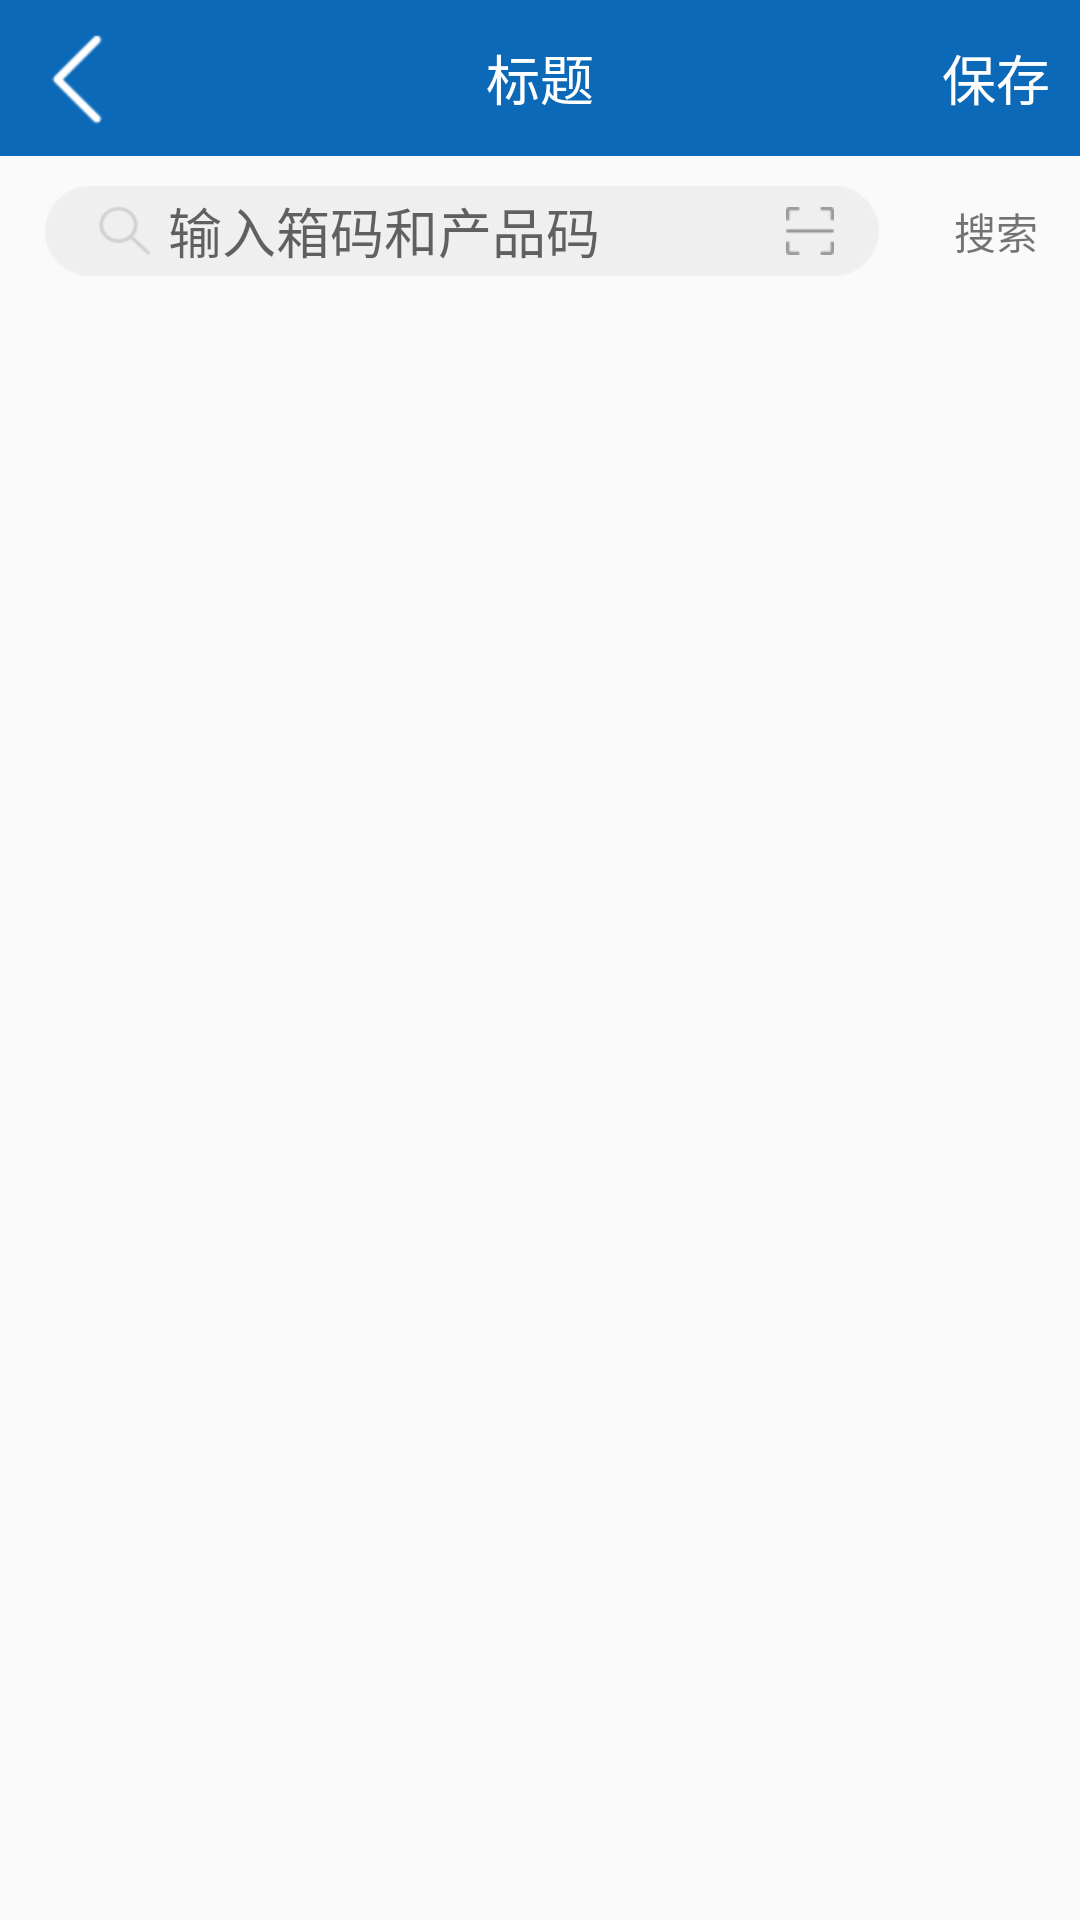

Icons on this 1080*1920 Android screen, each with the point to tap as (x,y):
back: (77,79)
